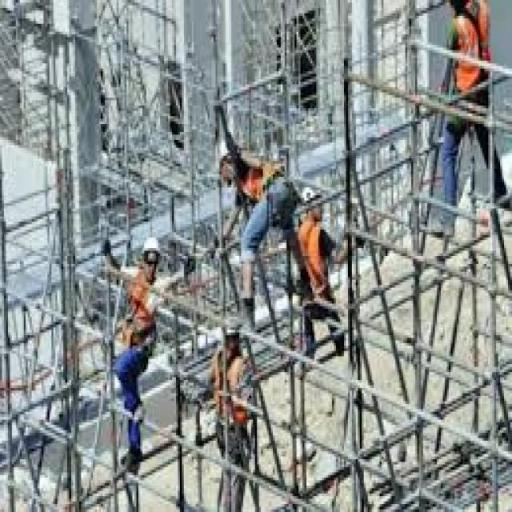helmet: (306, 446, 352, 491), (294, 182, 328, 219), (136, 230, 166, 266)
vest: (112, 264, 166, 366), (441, 3, 494, 100), (290, 216, 336, 308)
